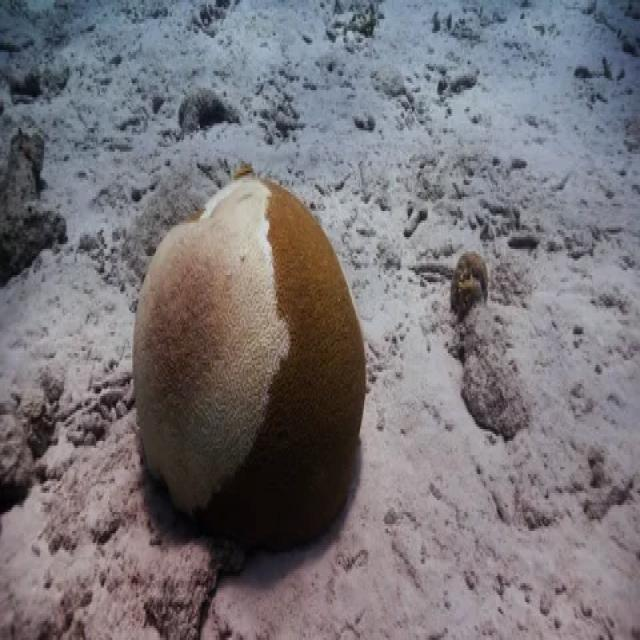Coral: (132, 162, 366, 550)
